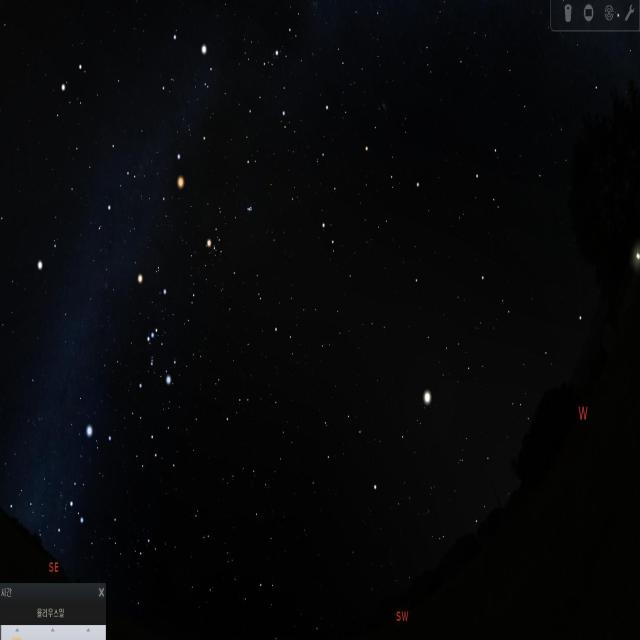canis_major: (64, 423, 117, 534)
canis_minor: (30, 220, 65, 292)
gemini: (50, 50, 148, 211)
orion: (129, 253, 175, 397)
pleiades: (245, 200, 258, 222)
taurus: (206, 192, 256, 274)
